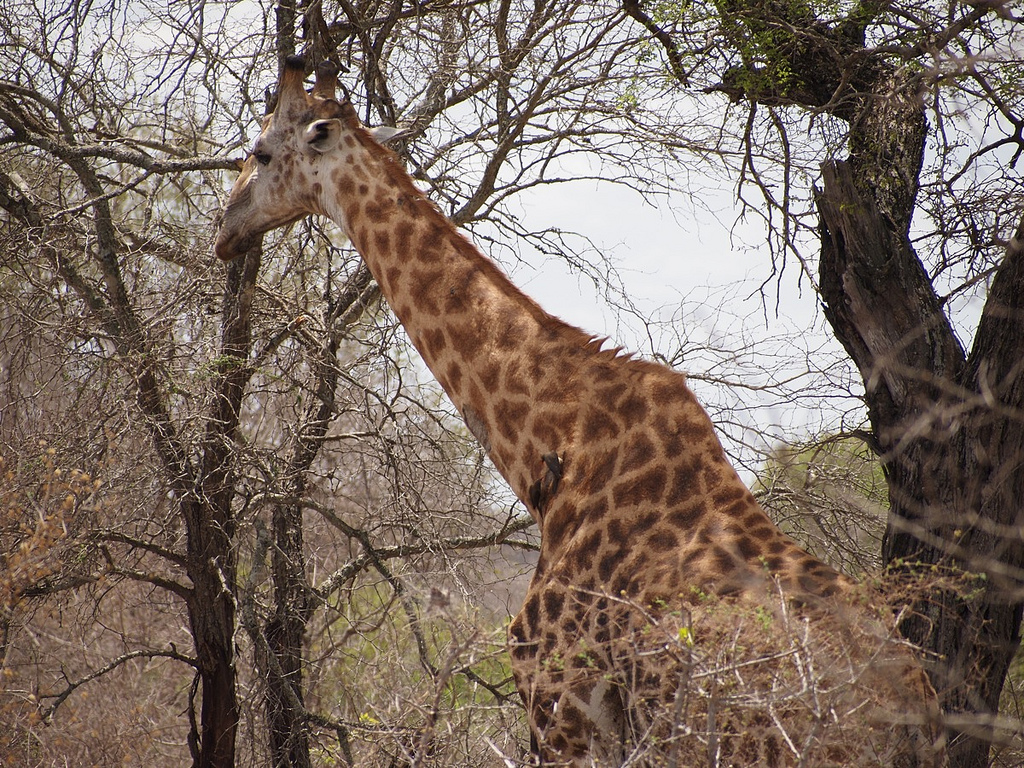giraffe: (203, 72, 925, 706)
